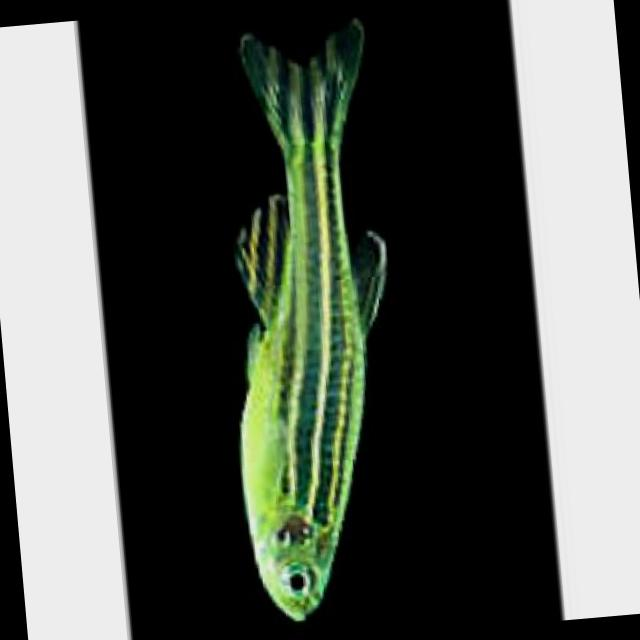ZebraFish: (202, 17, 413, 626)
